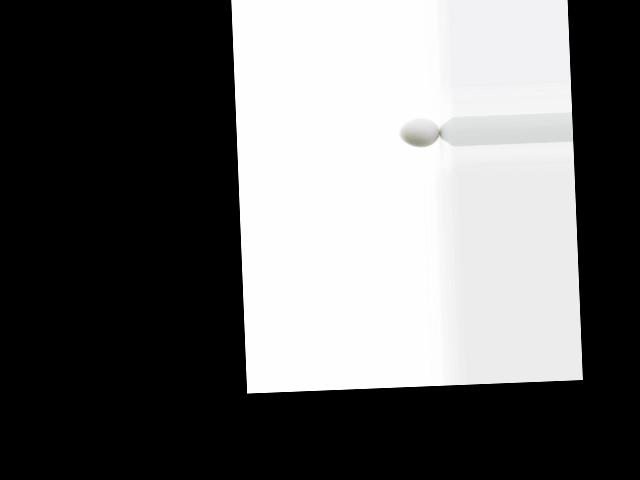egg: (399, 117, 440, 147)
